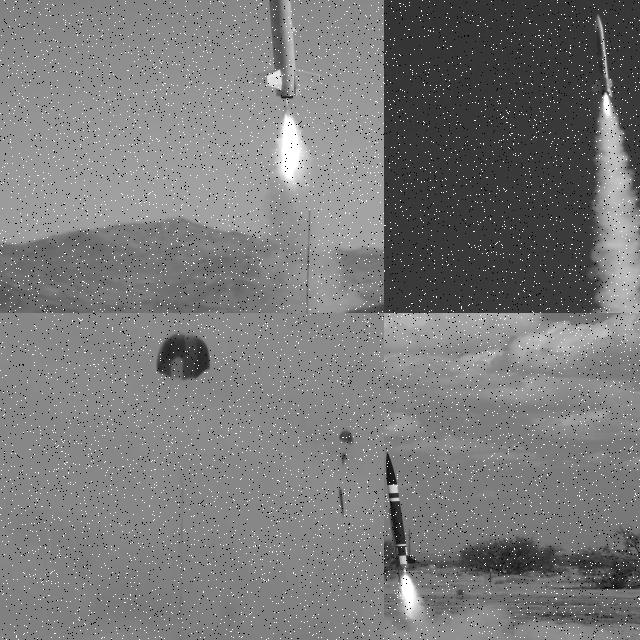Rocket: (250, 0, 323, 101), (386, 452, 418, 569), (592, 14, 614, 98)
